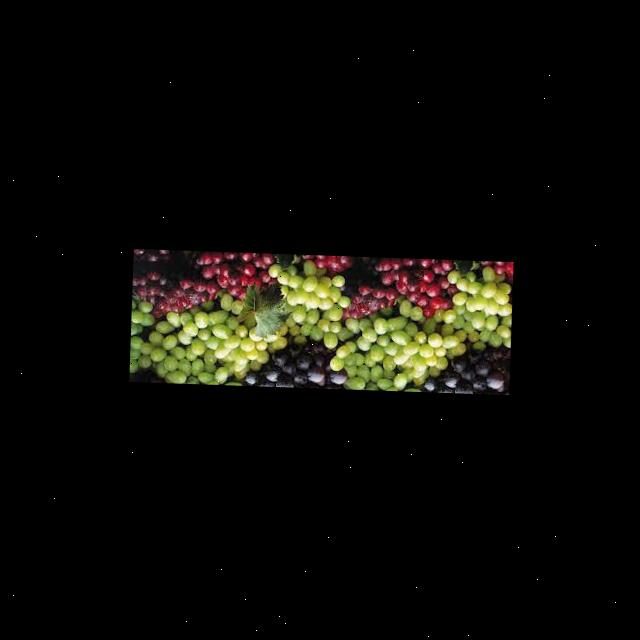grape: (128, 248, 511, 393)
